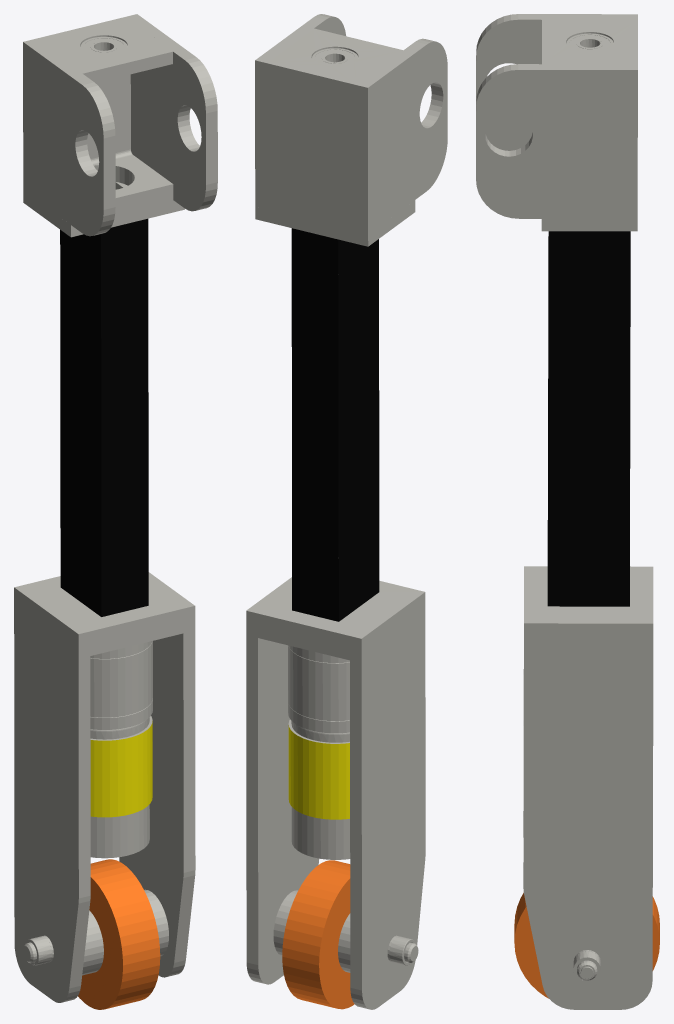
The model's file is hombro.obj.
The picture shows the model from 3 angles, left to right: view 1: azimuth 30°, elevation 25°; view 2: azimuth 150°, elevation 25°; view 3: azimuth 270°, elevation 25°; orthographic projection.
Visible parts, largest first — view 1: Object.1; view 2: Object.1; view 3: Object.1.
Part boxes in pixels (left/top/right/bottom): Object.1: left=14, top=14, right=217, bottom=1009; Object.1: left=246, top=14, right=447, bottom=1009; Object.1: left=476, top=14, right=659, bottom=1009.
Bounding box in the file's own units: 85.7 × 490 × 85.32.
